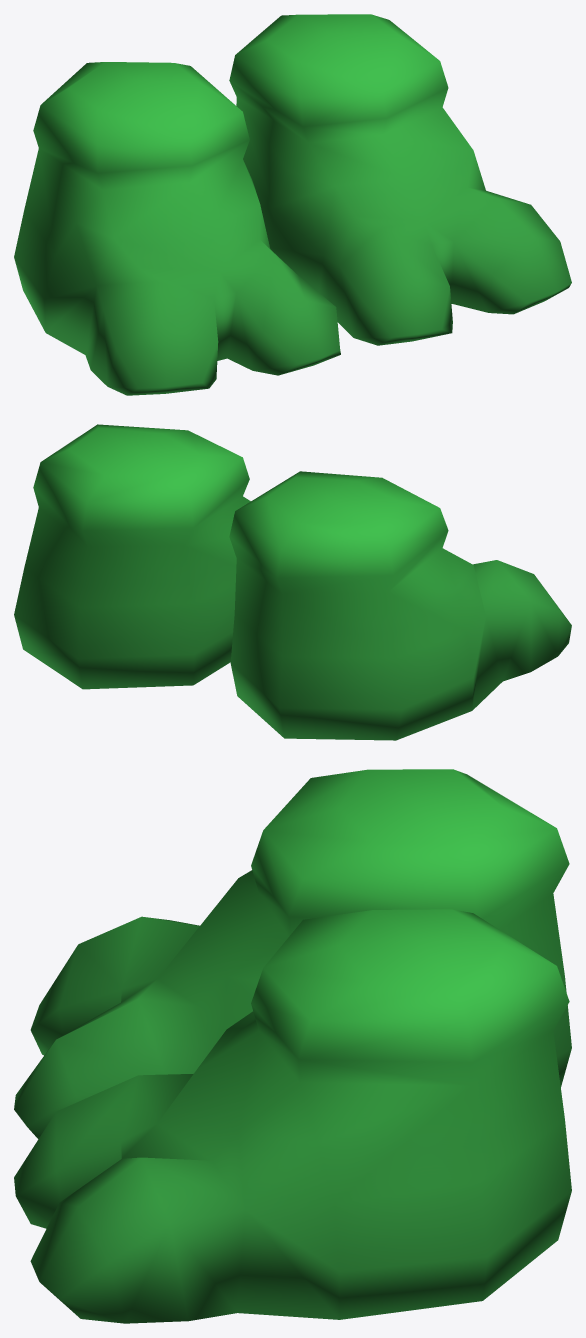
The model's file is Shoes_39.fbx.
The picture shows the model from 3 angles, top to bottom: view 1: azimuth 30°, elevation 25°; view 2: azimuth 150°, elevation 25°; view 3: azimuth 270°, elevation 25°; orthographic projection. The views are drawn at different scales.
Visible parts, largest first — view 1: Shoes_39; view 2: Shoes_39; view 3: Shoes_39.
Part boxes in pixels (x1,y1,x2,y2): Shoes_39: (14, 14, 571, 395); Shoes_39: (14, 424, 571, 740); Shoes_39: (14, 769, 571, 1323).
Size of the model in its own units: 47.78 by 20.76 by 35.27.
